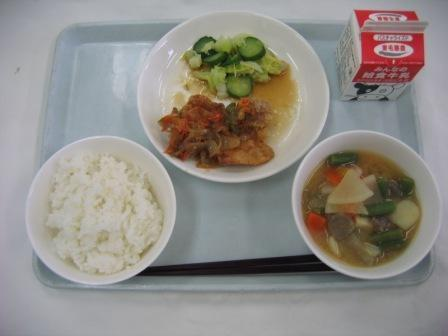Meat: (154, 91, 291, 178)
Milk: (329, 10, 432, 109)
Rice: (21, 141, 177, 287)
Salad: (182, 28, 279, 93)
Soups: (295, 141, 438, 265)
